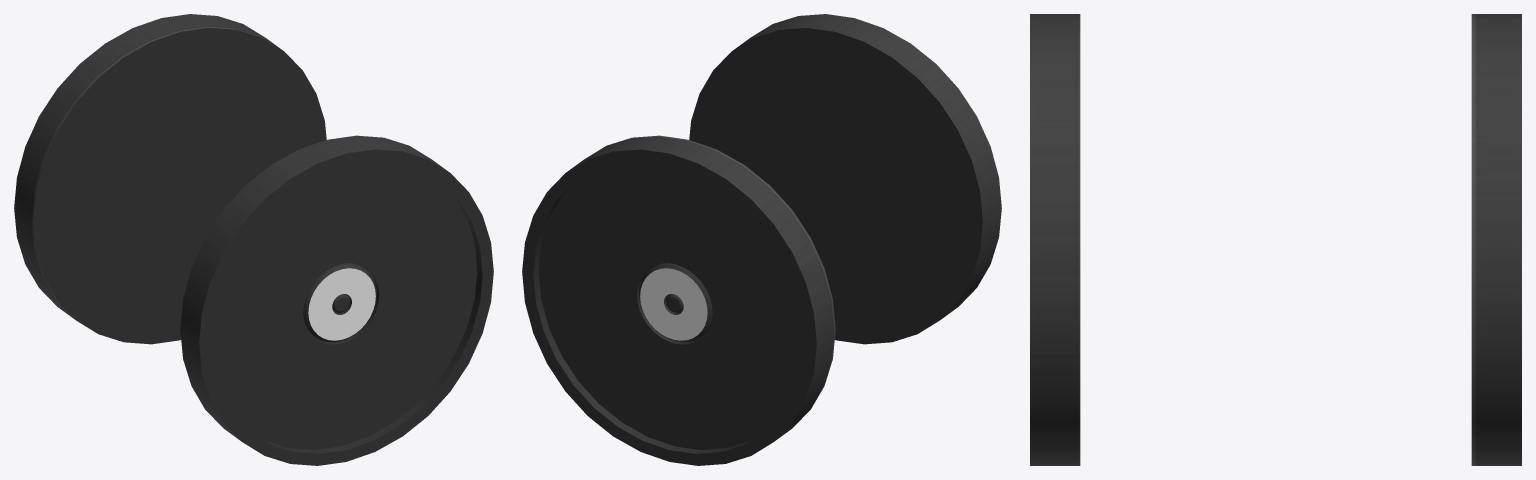
File: cuzhunjiao-v1.glb
The picture shows the model from 3 angles, left to right: view 1: azimuth 30°, elevation 25°; view 2: azimuth 150°, elevation 25°; view 3: azimuth 270°, elevation 25°; orthographic projection. The views are drawn at different scales.
Visible parts, largest first — view 1: M_XWJ_CuZhunJiao; view 2: M_XWJ_CuZhunJiao; view 3: M_XWJ_CuZhunJiao.
Boxes of the visible parts, box(x1,y1,x2,y2) form: M_XWJ_CuZhunJiao: box(14, 14, 493, 465); M_XWJ_CuZhunJiao: box(522, 14, 1001, 465); M_XWJ_CuZhunJiao: box(1030, 14, 1521, 465).
Size of the model in its own units: 2.11 by 2.11 by 2.29.
Materials: 1 (1 with a texture image).
